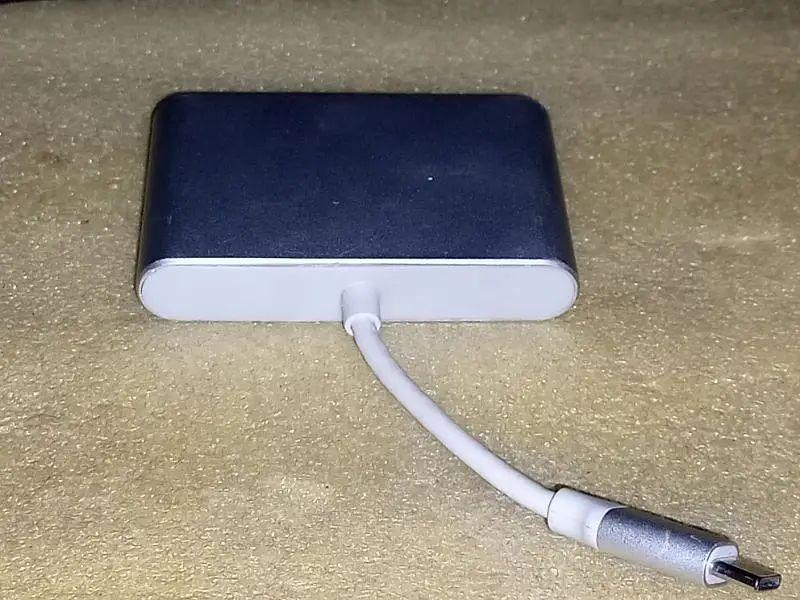electronic: (128, 80, 787, 597)
